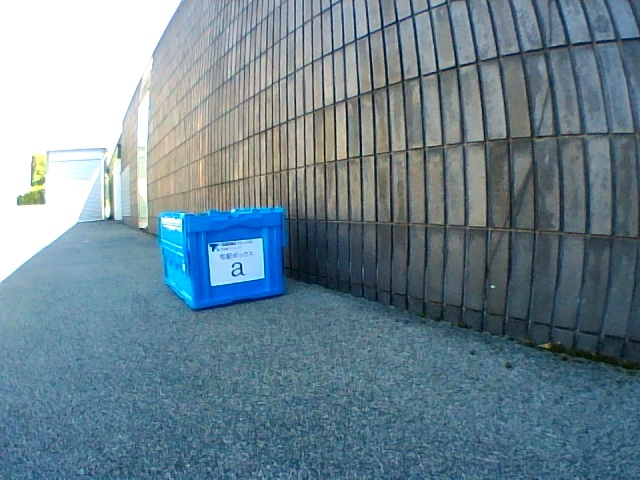blue_box: (158, 208, 287, 310)
tag_a: (213, 246, 261, 278)
